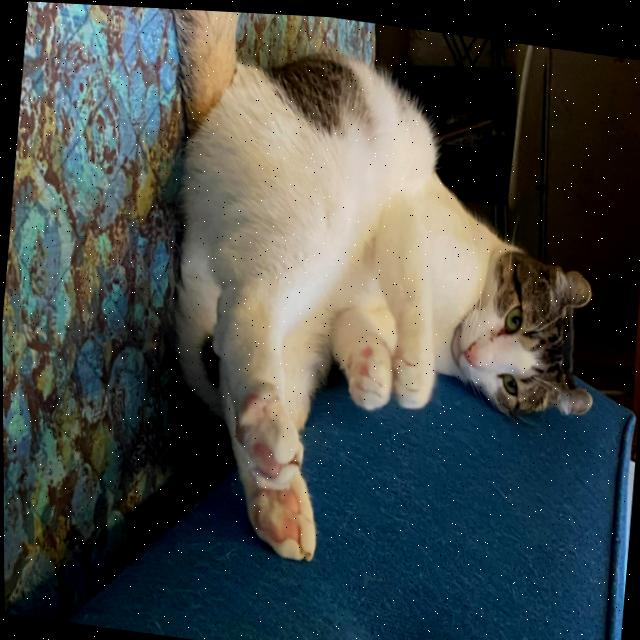American Curl: (110, 4, 625, 608)
